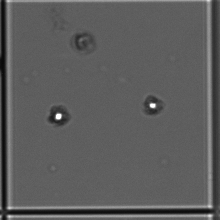Dead Cell: (72, 31, 96, 55)
Living Cell: (142, 93, 167, 115), (48, 106, 72, 126)
